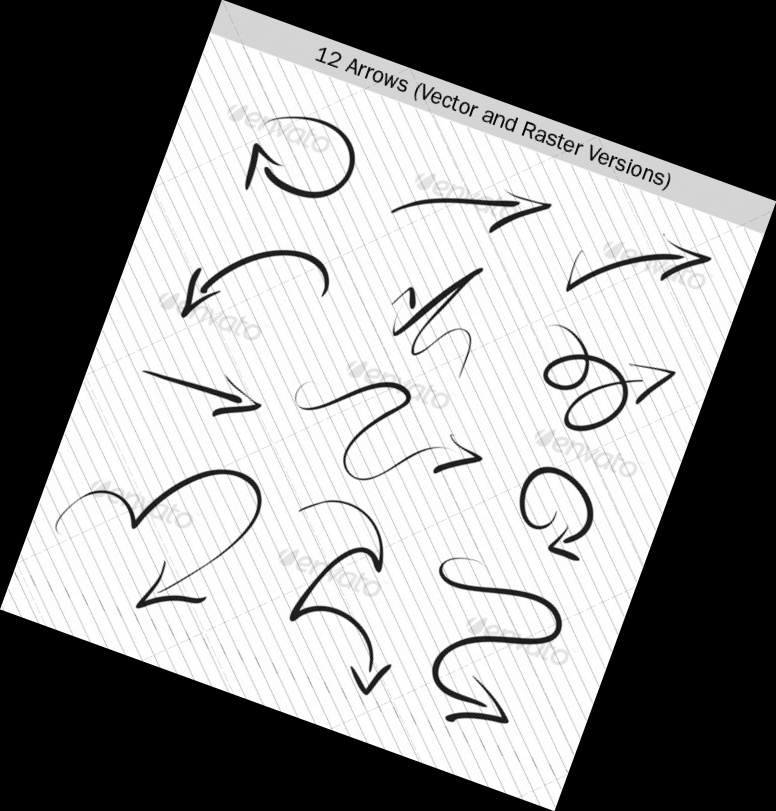arrow: (129, 538, 245, 618), (178, 244, 267, 324), (460, 182, 558, 238), (427, 673, 516, 730), (230, 136, 307, 201), (334, 626, 398, 704), (185, 367, 265, 427), (629, 233, 716, 286), (400, 429, 488, 480), (546, 504, 601, 567), (624, 350, 679, 410)
